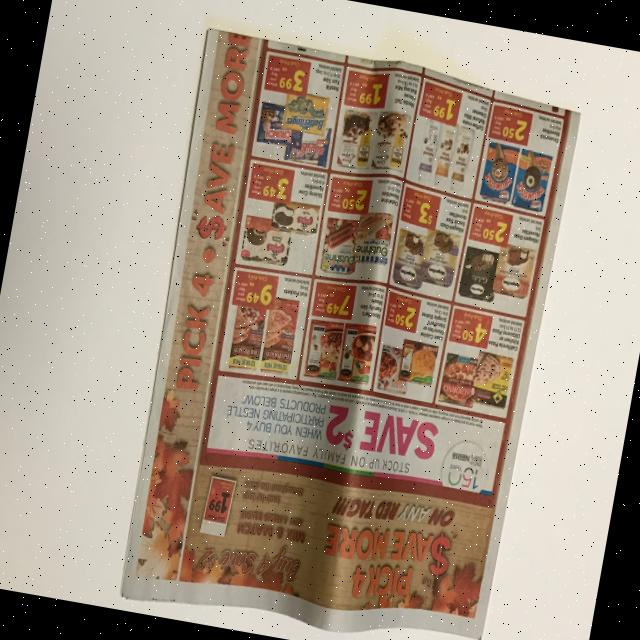paper: (114, 27, 582, 640)
